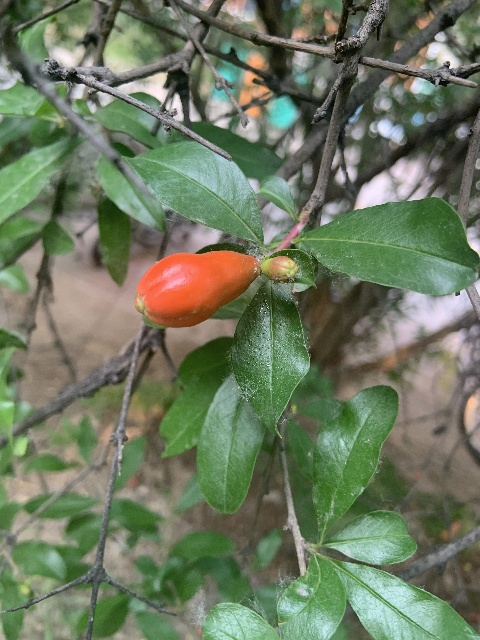bud: (135, 249, 258, 328), (259, 254, 299, 279)
